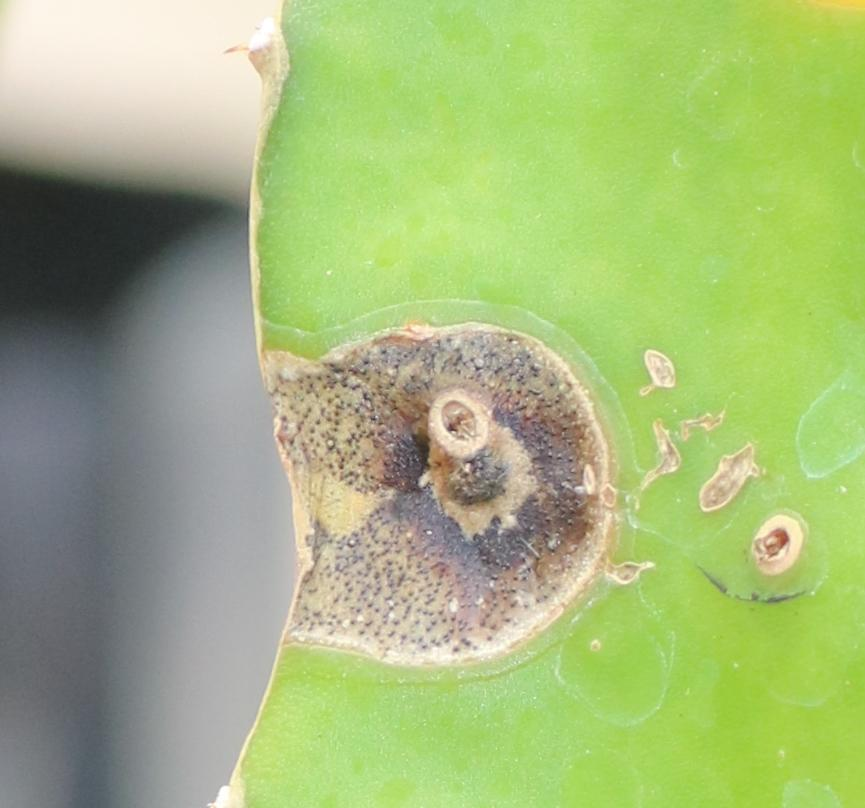stemcanker: (258, 305, 635, 680)
